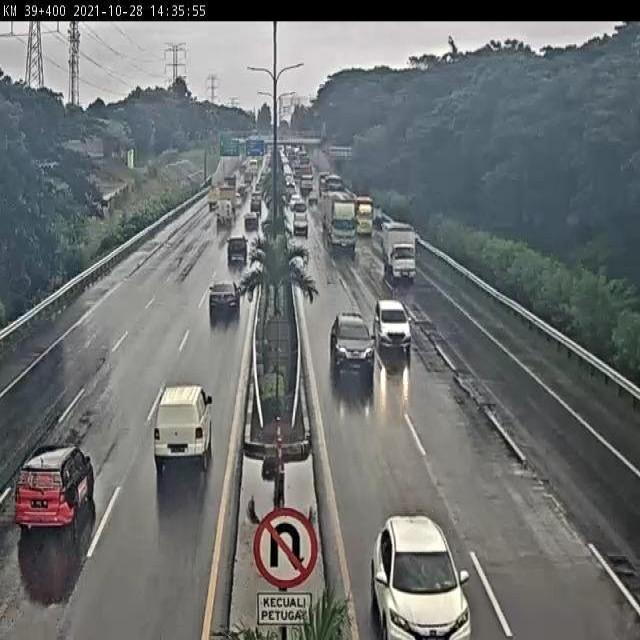big truck: (326, 200, 360, 253)
car: (372, 493, 476, 640), (13, 438, 97, 542), (148, 383, 214, 468), (325, 320, 377, 385), (370, 295, 414, 361), (379, 227, 421, 273), (208, 273, 239, 319), (293, 204, 312, 244), (228, 233, 246, 264), (246, 213, 259, 231)
small truck: (358, 200, 374, 236), (219, 200, 237, 225), (223, 184, 234, 203)
